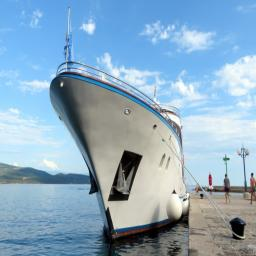cruises: (48, 56, 193, 245)
